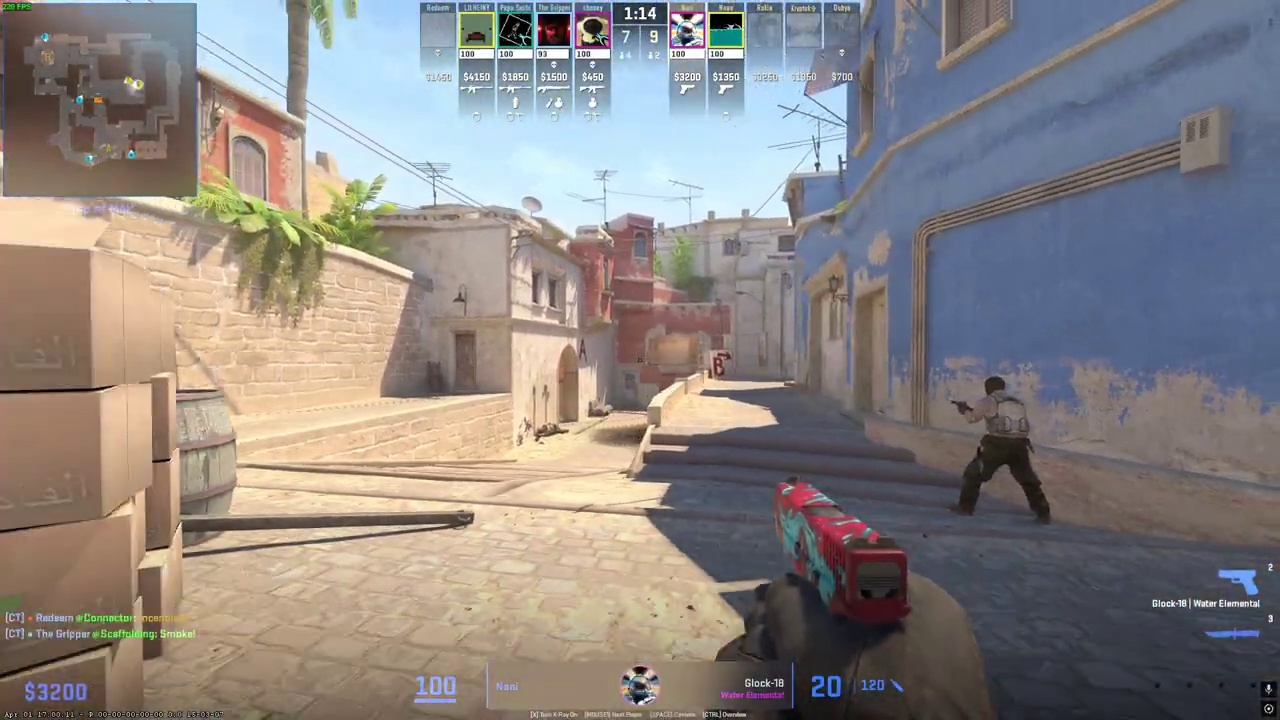Terrorist: (956, 374, 1048, 528)
